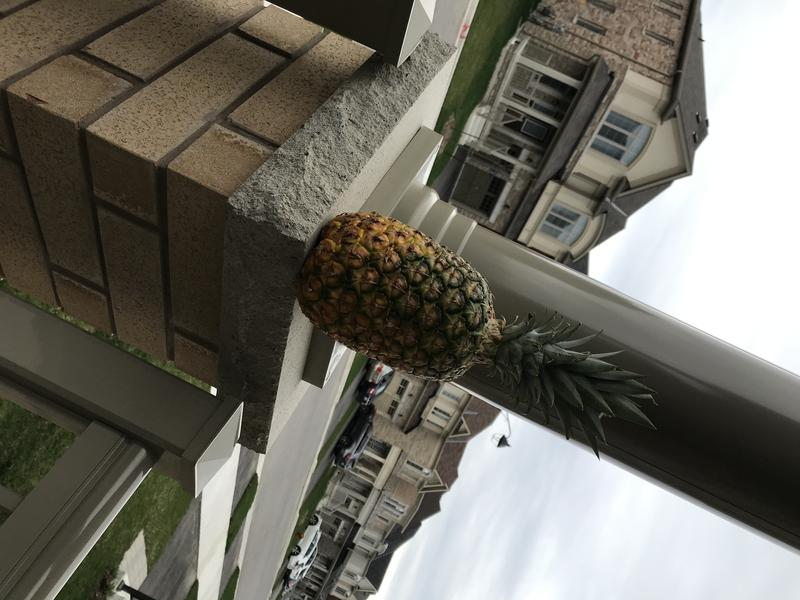pineapple: (289, 203, 674, 470)
